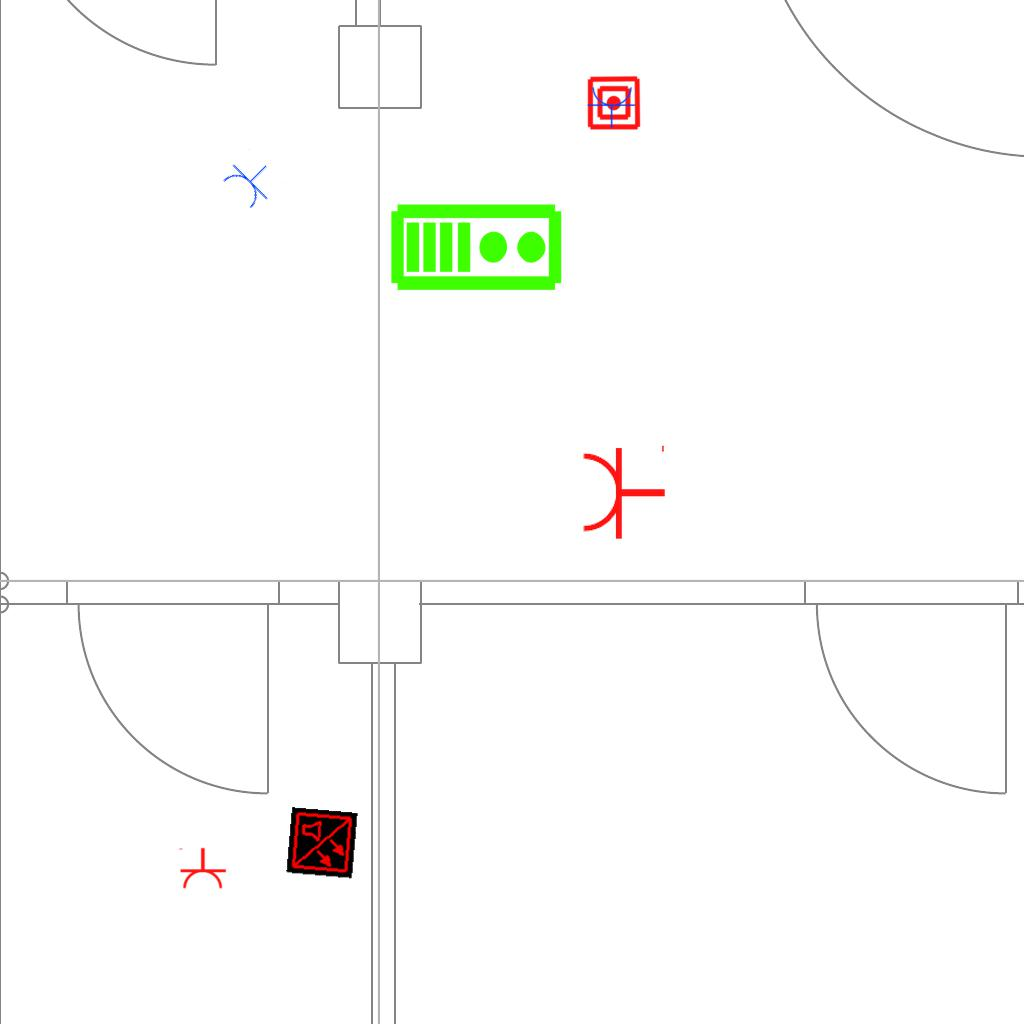Gegensprechanlage_mit_Video: (389, 198, 565, 293)
NAM-Nichtautomatischer_Melder: (586, 75, 642, 131)
OKW_Multisensormelder_(Kombination_optischer_Rauch-Kahlenmonoxid_Waerme-Melder): (286, 807, 358, 879)
Schukosteckdose_einfach: (580, 441, 667, 541), (218, 147, 284, 214), (177, 847, 227, 890), (587, 85, 637, 128)
